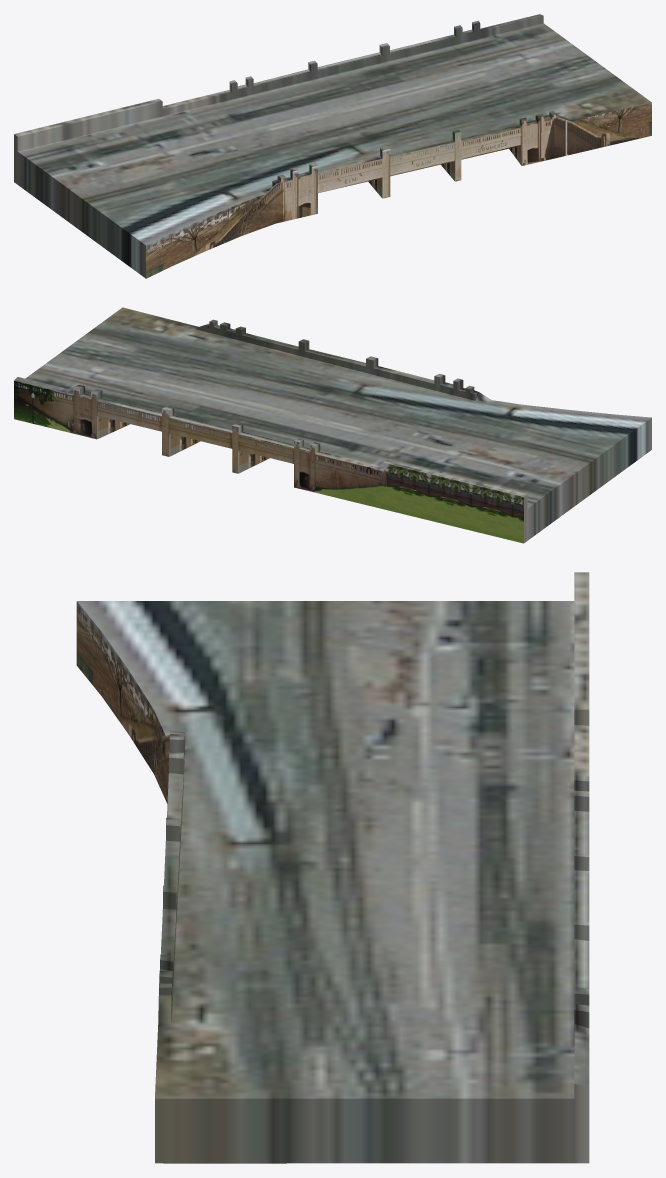
Rendered from TripleOverpassQD.fbx.
The picture shows the model from 3 angles, top to bottom: view 1: azimuth 30°, elevation 25°; view 2: azimuth 150°, elevation 25°; view 3: azimuth 270°, elevation 25°; orthographic projection. The views are drawn at different scales.
Visible parts, largest first — view 1: Cube; view 2: Cube; view 3: Cube.
Boxes of the visible parts, x1,y1,x2,y2 form: Cube: [14, 14, 651, 278]; Cube: [14, 307, 651, 543]; Cube: [76, 572, 589, 1163].
Size of the model in its own units: 1.8 by 0.1577 by 0.7833.
1 material, 1 textured.
